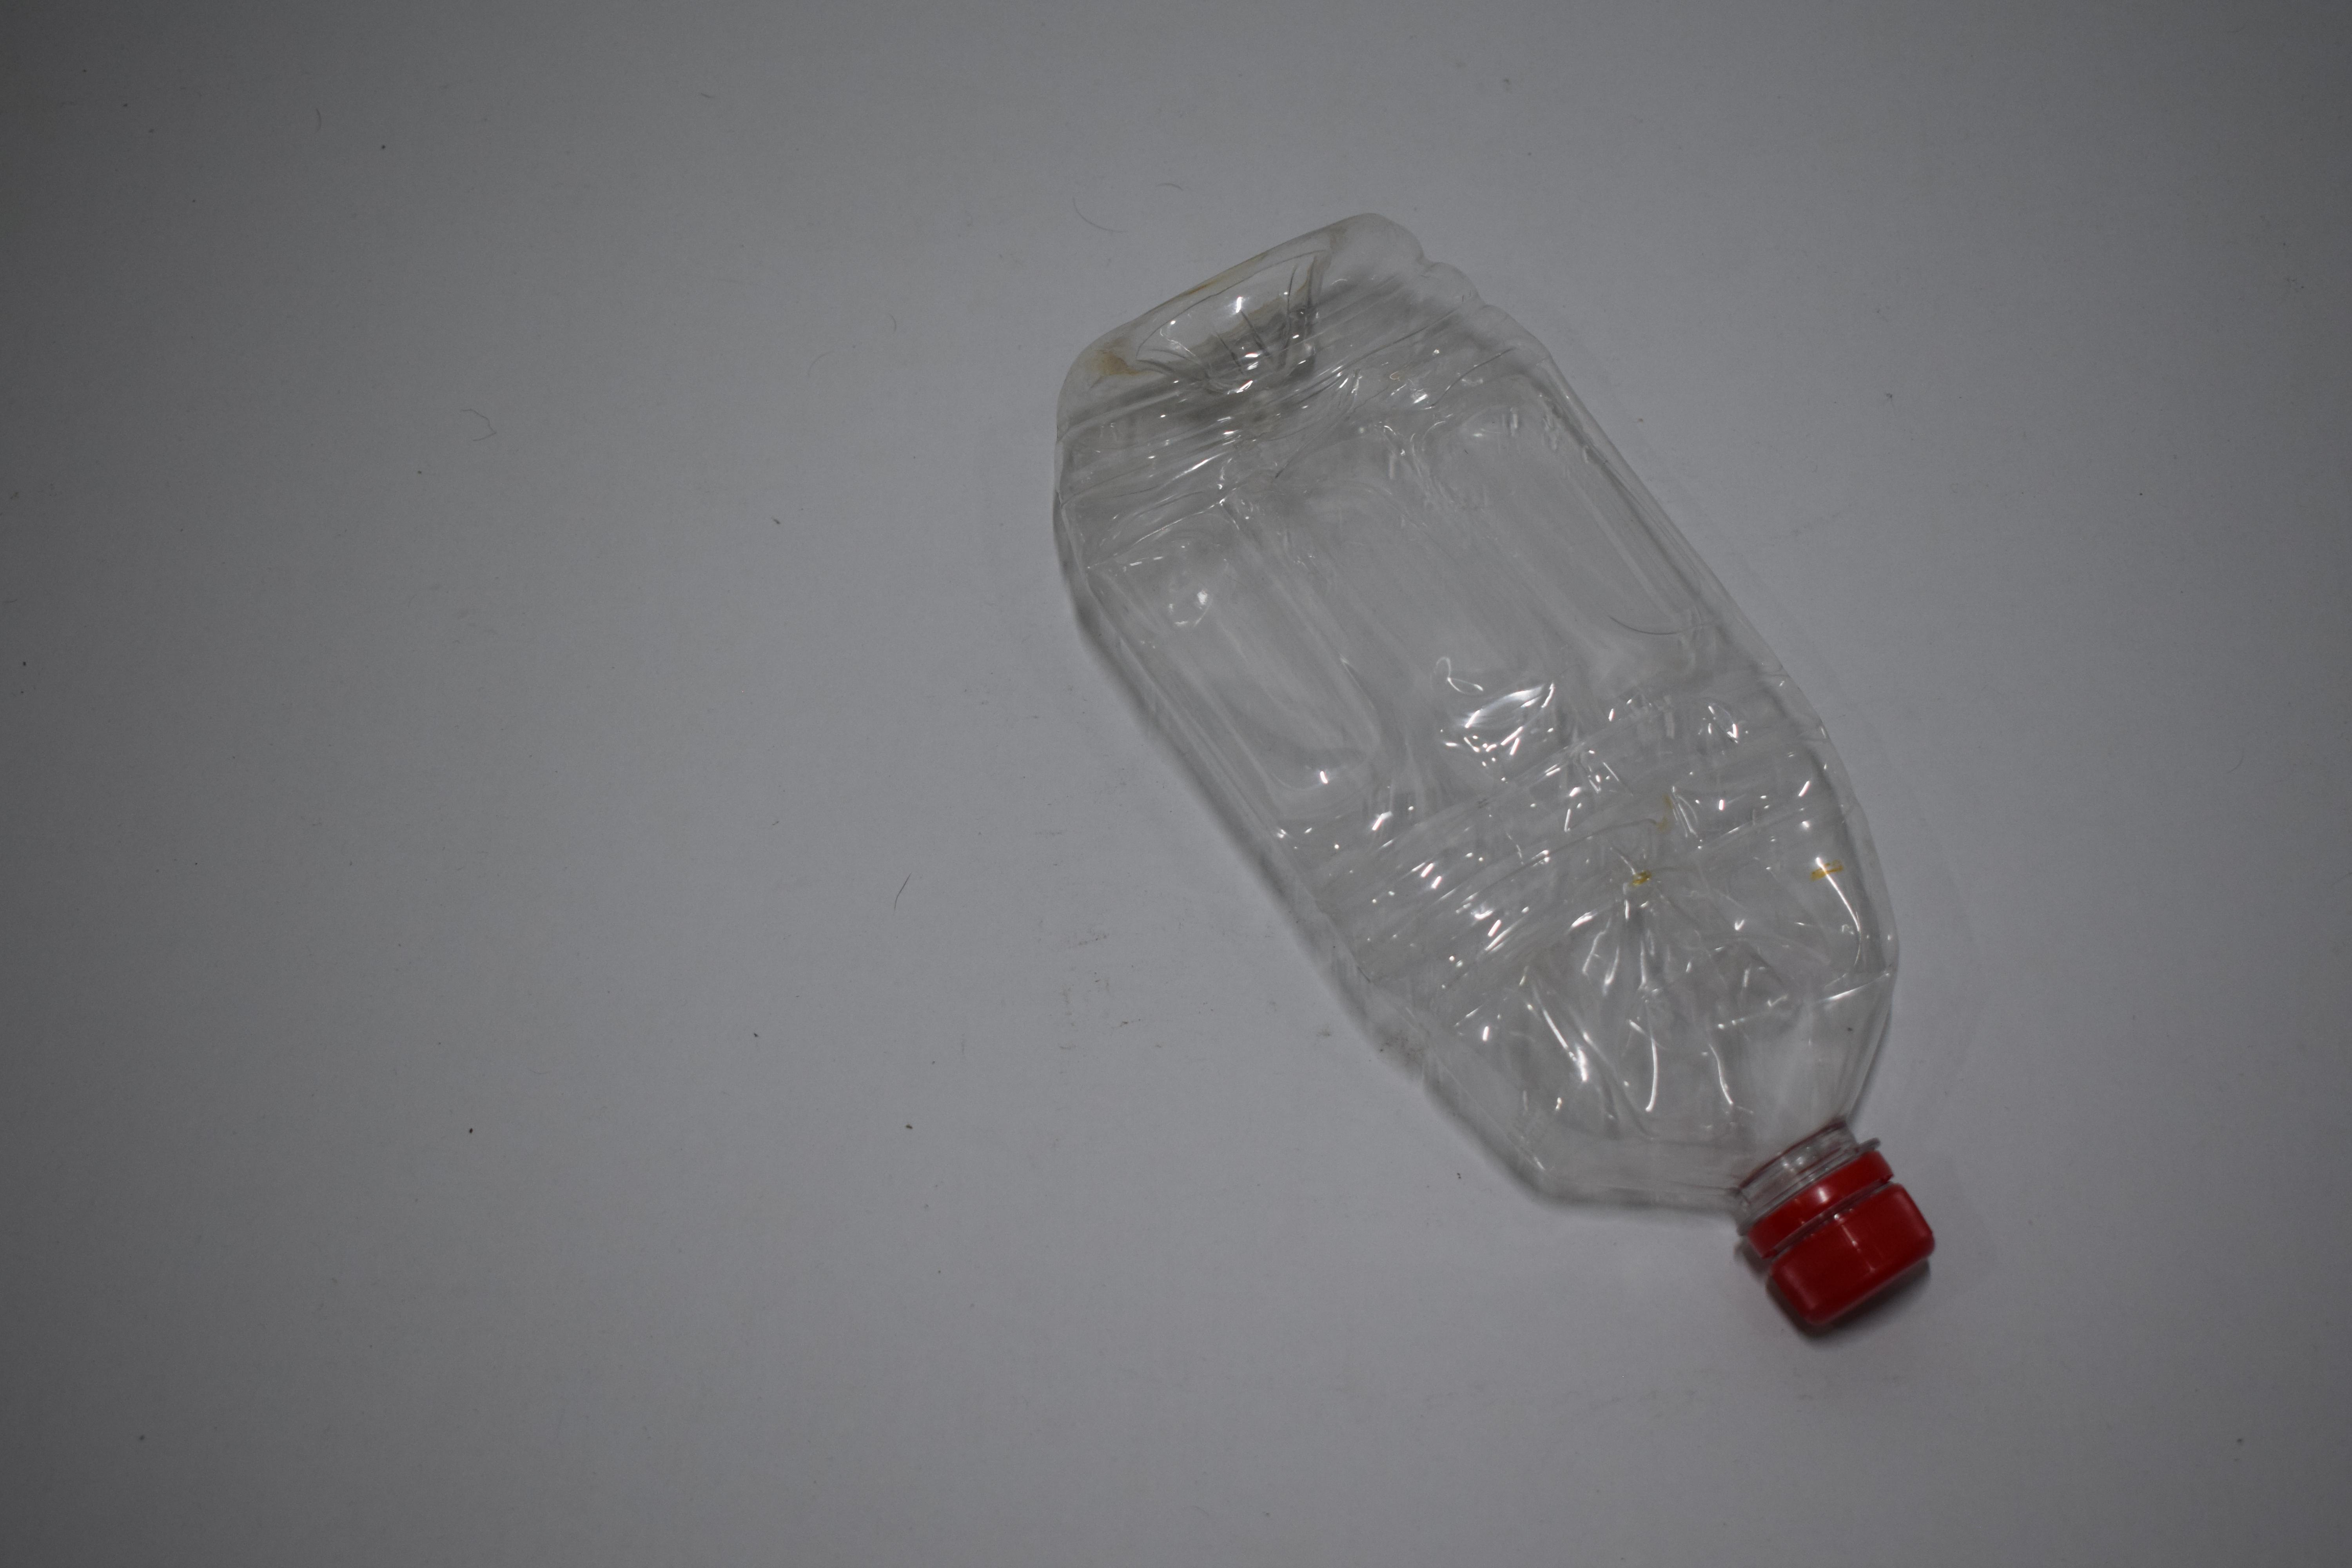bottle: (1034, 199, 1932, 1341)
